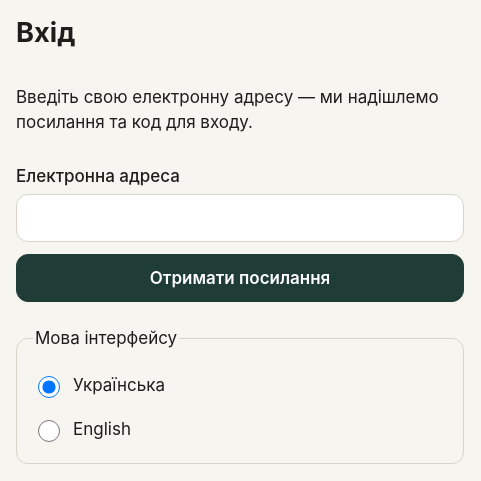
Test: language preference › switches language before sign-in and remembers it locally
The width and height of the screenshot is (481, 481).
Click the radio button labelled "English": coordinates (49, 430) [38,420,60,442]
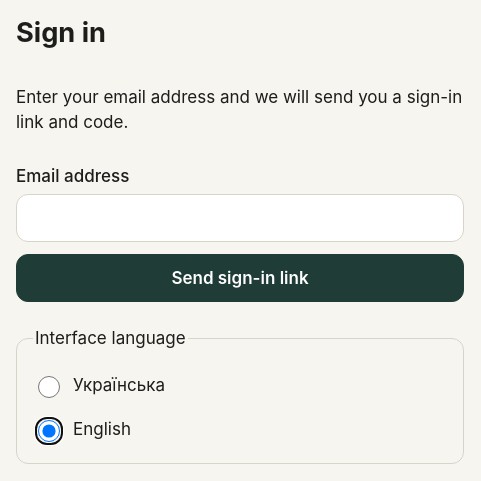
Now the heading "Sign in" is shown, box [16,16,106,49]
